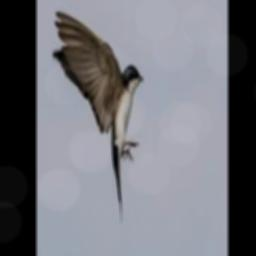Swallow: (52, 11, 142, 223)
